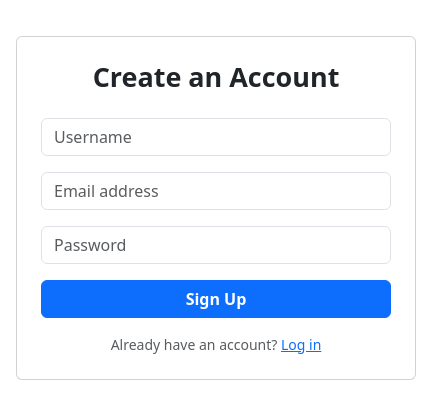
SignUp Component › displays generic error message on network failure
Type "OfflineUser" into the field with placeholder "Username" at (216, 137), box [41, 118, 391, 156]
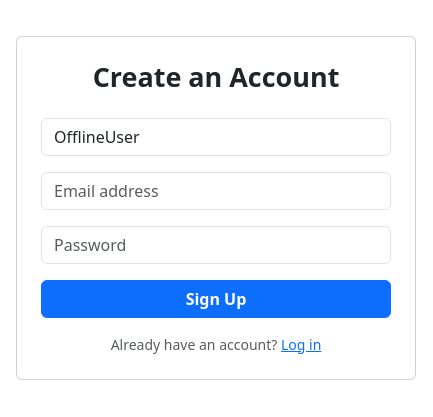
Type "offline@example.com" into the field with placeholder "Email address" at (216, 191), box [41, 172, 391, 210]
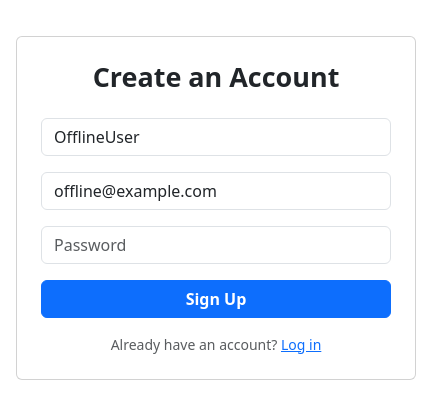
Type "123456" into the password field with placeholder "Password" at (216, 245), box [41, 226, 391, 264]
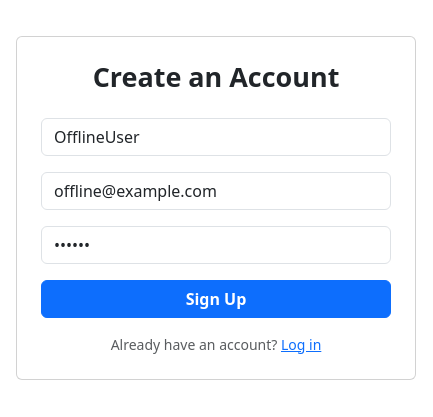
Click the button "Sign Up" at (216, 299), box [41, 280, 391, 318]
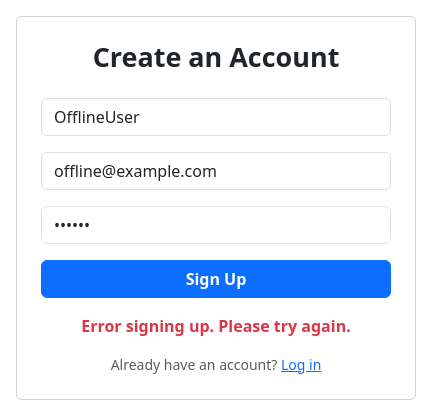
Check: the text "Error signing up. Please try again." is shown, box [81, 315, 351, 337]
